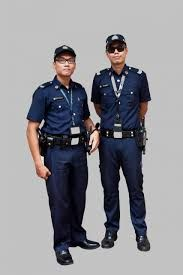gun: (33, 126, 51, 157)
uniform: (95, 65, 149, 228), (35, 83, 90, 231)
